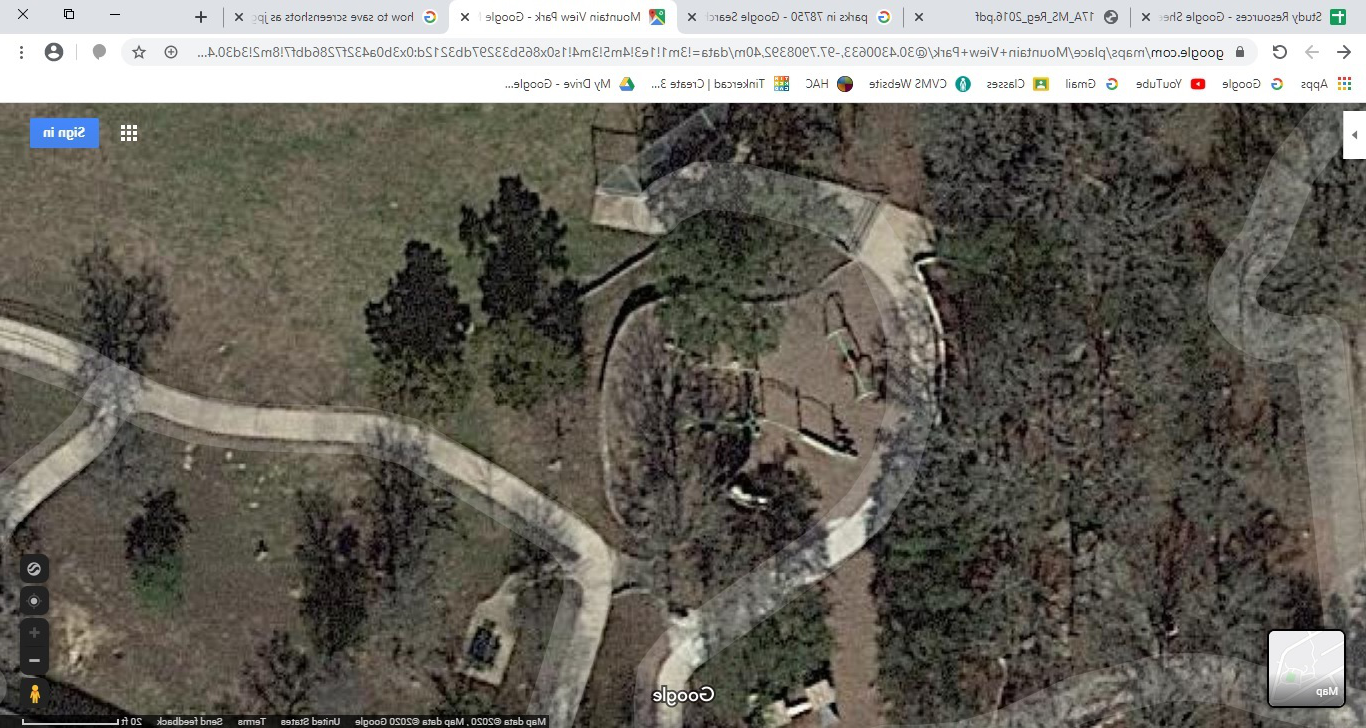playscape: (505, 260, 1021, 647)
